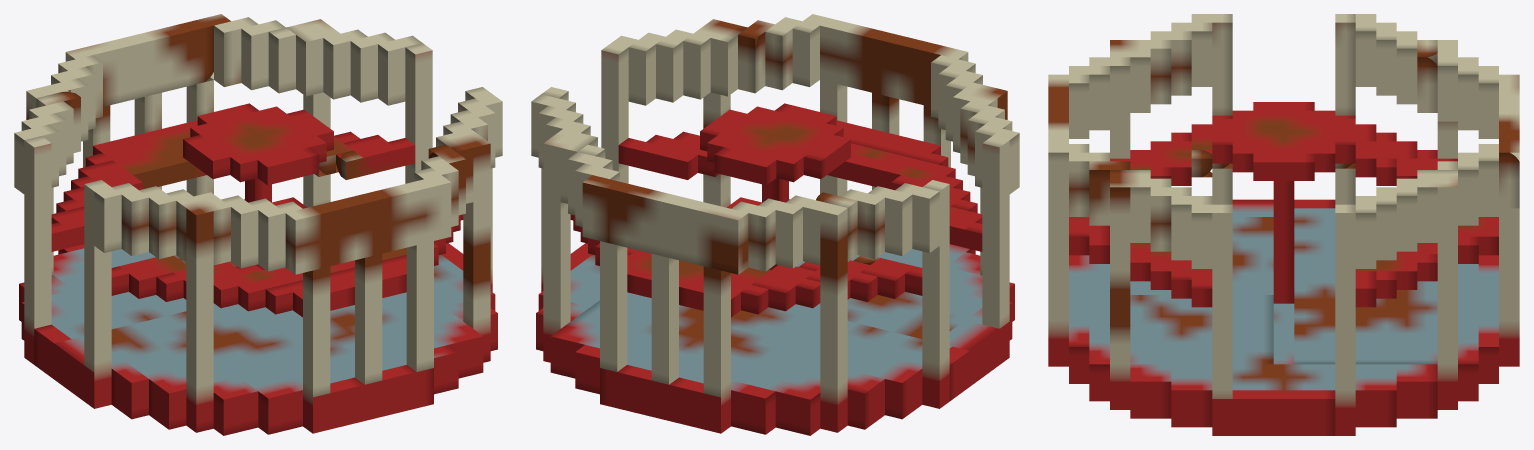
The model's file is karuela_plac_zabaw.dae.
The picture shows the model from 3 angles, left to right: view 1: azimuth 30°, elevation 25°; view 2: azimuth 150°, elevation 25°; view 3: azimuth 270°, elevation 25°; orthographic projection. The views are drawn at different scales.
Visible parts, largest first — view 1: Content; view 2: Content; view 3: Content.
Boxes of the visible parts, x1,y1,x2,y2 form: Content: (14,14,502,435); Content: (531,14,1019,435); Content: (1048,14,1519,435).
Bounding box in the file's own units: 23 × 12 × 23.
Materials: 1 (1 with a texture image).
